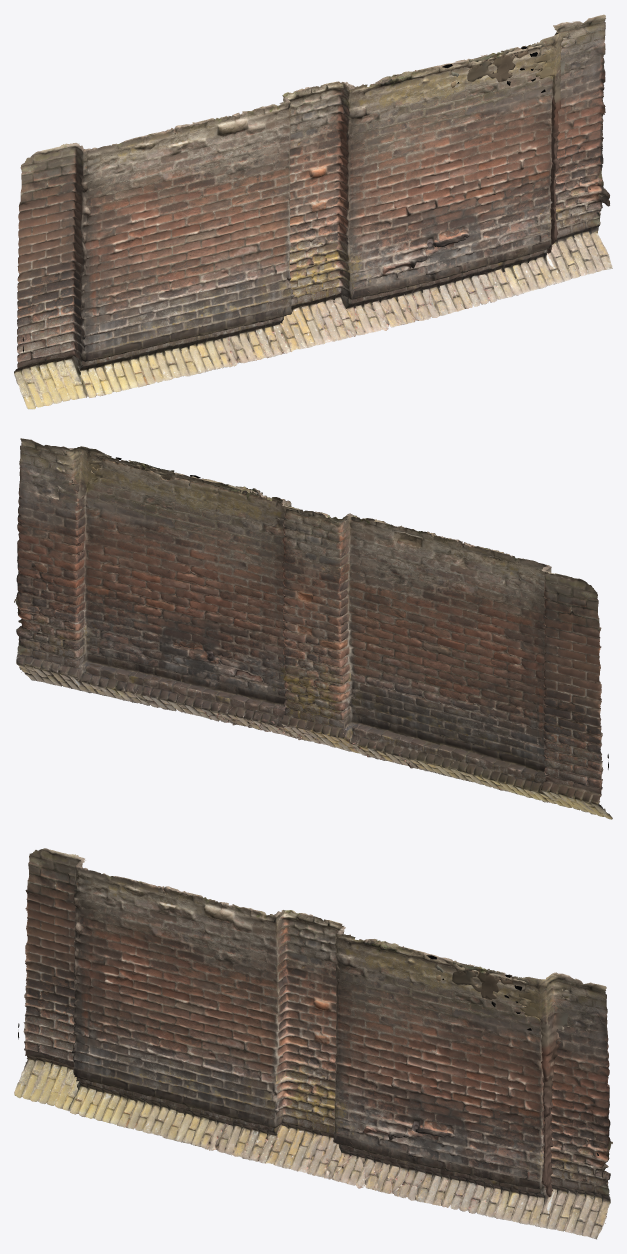
3 renders of one model, top to bottom at view 1: azimuth 30°, elevation 25°; view 2: azimuth 150°, elevation 25°; view 3: azimuth 330°, elevation 25°, orthographic.
Visible parts, largest first — view 1: Church Wall 50K; view 2: Church Wall 50K; view 3: Church Wall 50K.
Boxes of the visible parts, <box> form: Church Wall 50K: <box>14,14,612,409</box>; Church Wall 50K: <box>14,438,612,819</box>; Church Wall 50K: <box>14,848,612,1239</box>.
Size of the model in its own units: 5.24 by 2.14 by 0.3387.
Materials: 1 (1 with a texture image).
